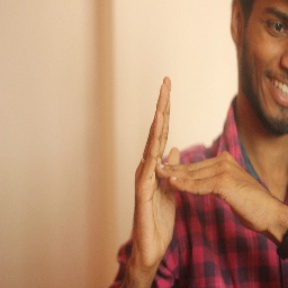Z: (124, 71, 272, 260)
